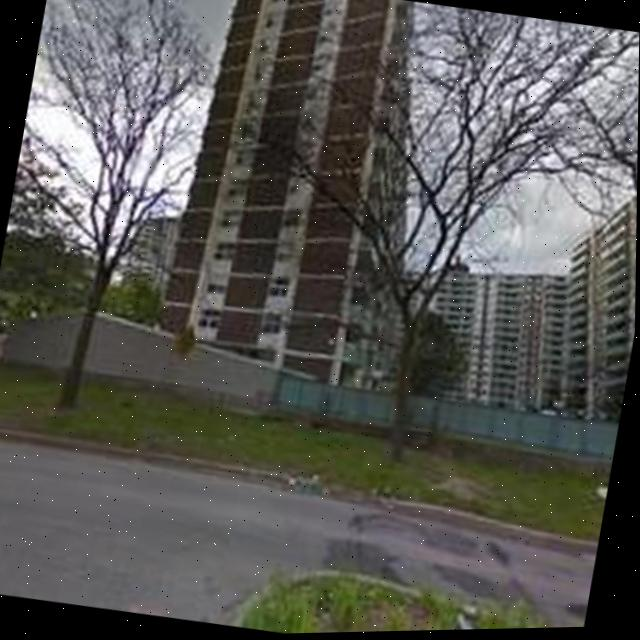building: (152, 0, 450, 406), (383, 251, 577, 419), (541, 158, 637, 423), (112, 205, 181, 331)
